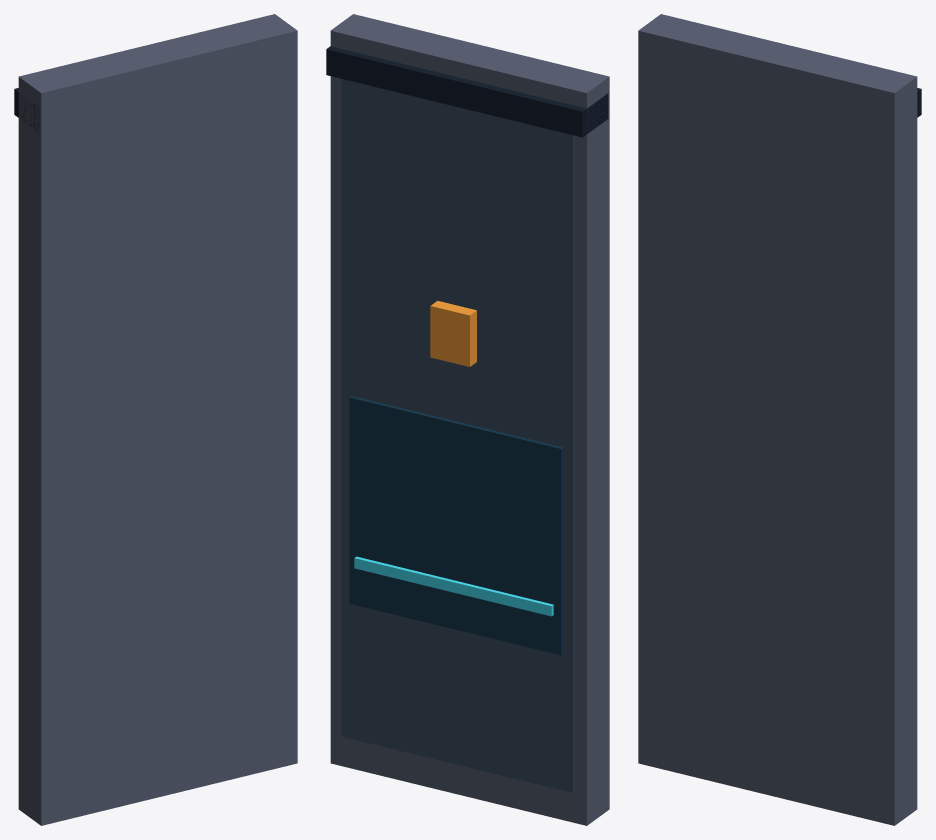
File: env_door_panel.obj
The picture shows the model from 3 angles, left to right: view 1: azimuth 30°, elevation 25°; view 2: azimuth 150°, elevation 25°; view 3: azimuth 330°, elevation 25°; orthographic projection.
Size of the model in its own units: 1.04 by 2.84 by 0.22.
